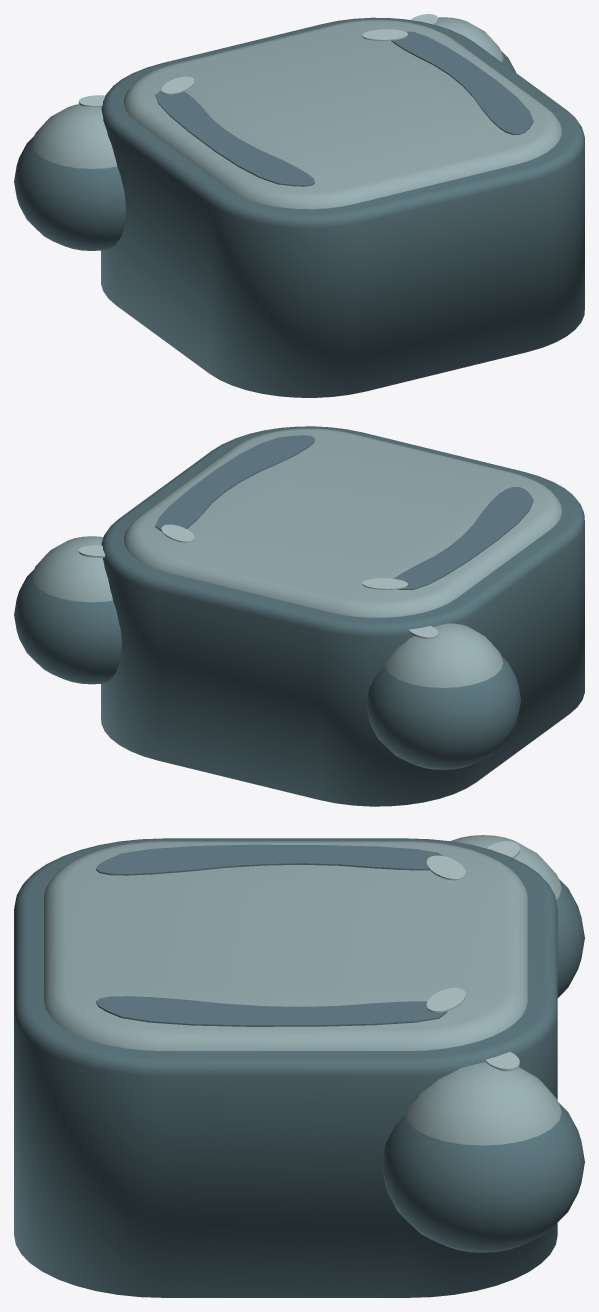
Rendered from body_basico_ardosia.fbx.
3 renders of one model, top to bottom at view 1: azimuth 30°, elevation 25°; view 2: azimuth 150°, elevation 25°; view 3: azimuth 270°, elevation 25°, orthographic. The views are drawn at different scales.
Visible parts, largest first — view 1: body_basico_ardosia_corpo, body_basico_ardosia_mao_esq, body_basico_ardosia_mao; view 2: body_basico_ardosia_corpo, body_basico_ardosia_mao_esq, body_basico_ardosia_mao; view 3: body_basico_ardosia_corpo, body_basico_ardosia_mao, body_basico_ardosia_mao_esq.
Boxes of the visible parts, box(x1,y1,x2,y2) form: body_basico_ardosia_corpo: box(101, 17, 584, 397); body_basico_ardosia_mao_esq: box(14, 95, 125, 250); body_basico_ardosia_mao: box(411, 14, 515, 72); body_basico_ardosia_corpo: box(101, 426, 584, 806); body_basico_ardosia_mao_esq: box(366, 623, 520, 769); body_basico_ardosia_mao: box(14, 536, 121, 684); body_basico_ardosia_corpo: box(14, 838, 557, 1297); body_basico_ardosia_mao: box(382, 1052, 584, 1252); body_basico_ardosia_mao_esq: box(451, 835, 584, 997).
Bounding box in the file's own units: 5.4 × 2.03 × 4.2.
Materials: 1 (1 with a texture image).
